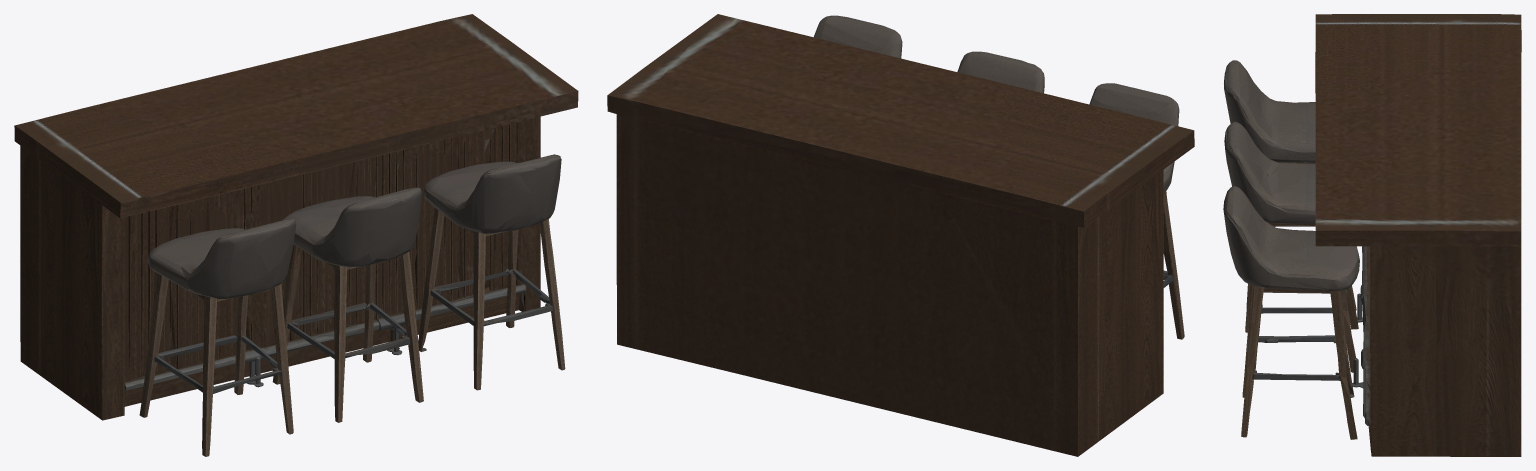
Rendered from bar-counter.glb.
3 views of the same model, side by side, from view 1: azimuth 30°, elevation 25°; view 2: azimuth 150°, elevation 25°; view 3: azimuth 270°, elevation 25° (orthographic). The views are drawn at different scales.
Visible parts, largest first — view 1: output_unwrapped; view 2: output_unwrapped; view 3: output_unwrapped.
Part boxes in pixels (x1,y1,x2,y2): output_unwrapped: [14, 14, 578, 456]; output_unwrapped: [607, 14, 1194, 456]; output_unwrapped: [1223, 14, 1521, 456].
Size of the model in its own units: 2.31 by 1.15 by 1.34.
1 material, 1 textured.
